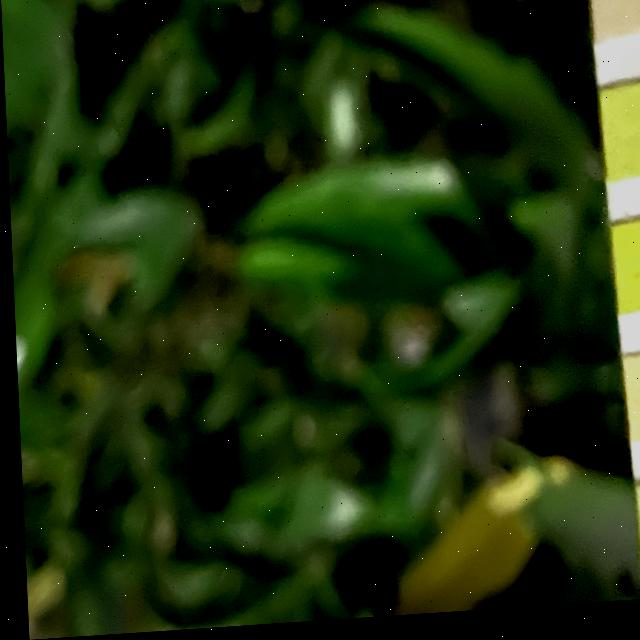Blood: (611, 231, 640, 315)
Ketone: (590, 0, 640, 42)
Protein: (634, 492, 640, 570)
SpGravity: (599, 93, 640, 182)
pH: (623, 362, 640, 441)
